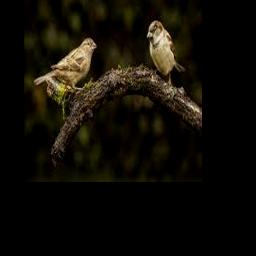Sparrow: (34, 36, 96, 89), (146, 20, 185, 86)
